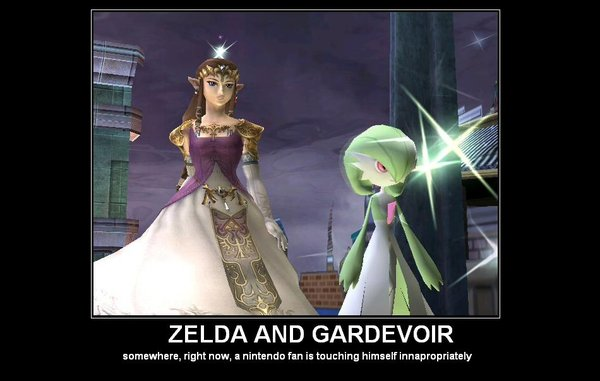gardevoir: (307, 123, 457, 319)
